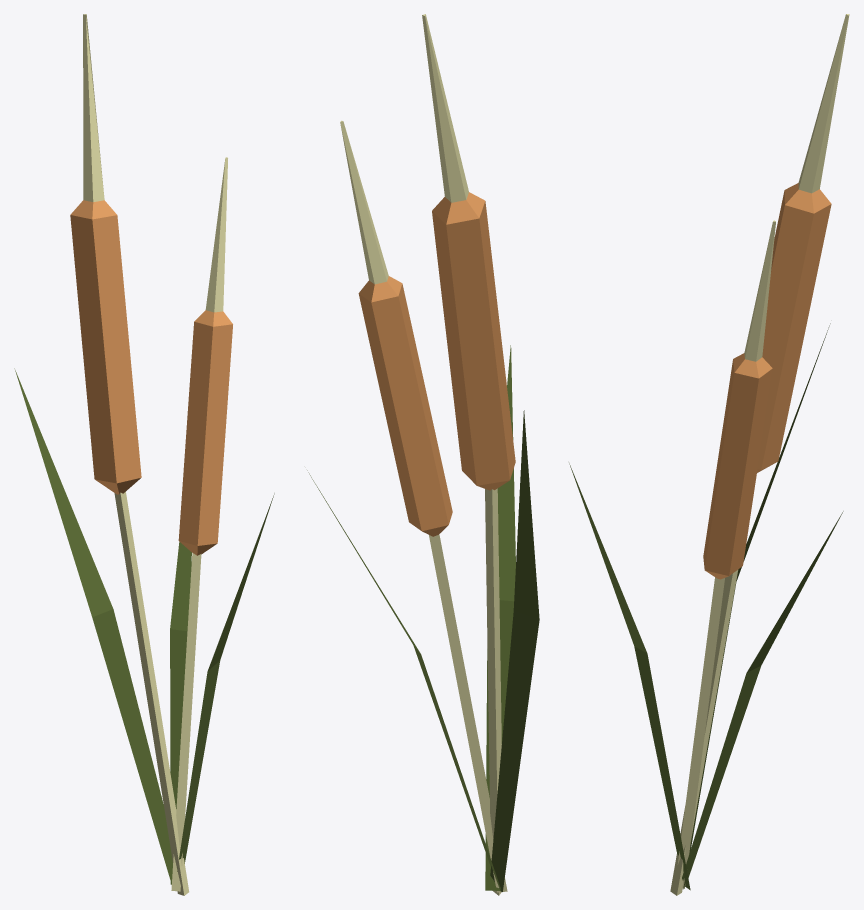
The model's file is ReedsCattail.fbx.
The picture shows the model from 3 angles, left to right: view 1: azimuth 30°, elevation 25°; view 2: azimuth 150°, elevation 25°; view 3: azimuth 270°, elevation 25°; orthographic projection. The views are drawn at different scales.
Parts seen in each view (by area): view 1: reedstick.001; view 2: reedstick.001; view 3: reedstick.001.
Part boxes in pixels (left/top/right/bottom): reedstick.001: left=14, top=14, right=274, bottom=895; reedstick.001: left=307, top=14, right=539, bottom=895; reedstick.001: left=569, top=14, right=849, bottom=895.
Size of the model in its own units: 0.2591 by 1.1 by 0.321.
